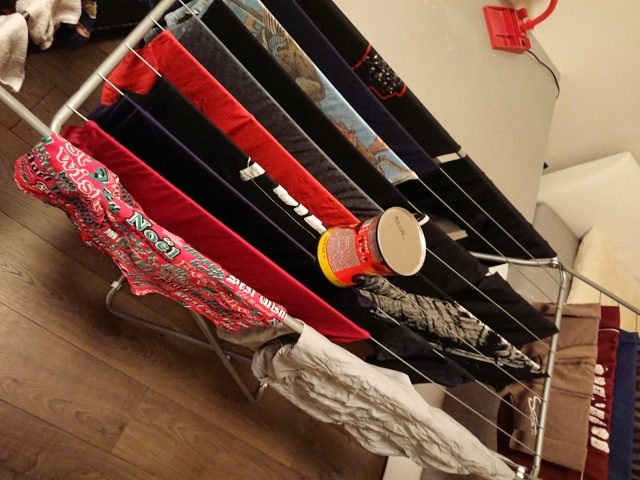Nescafe Classic 225g: (312, 204, 429, 291)
